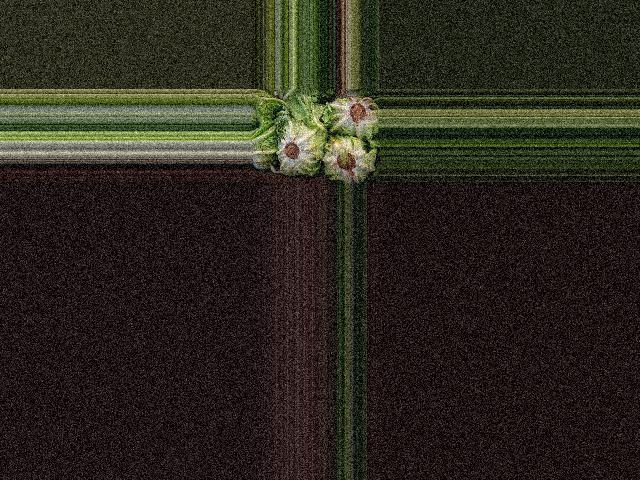lettuce: (329, 95, 379, 138)
